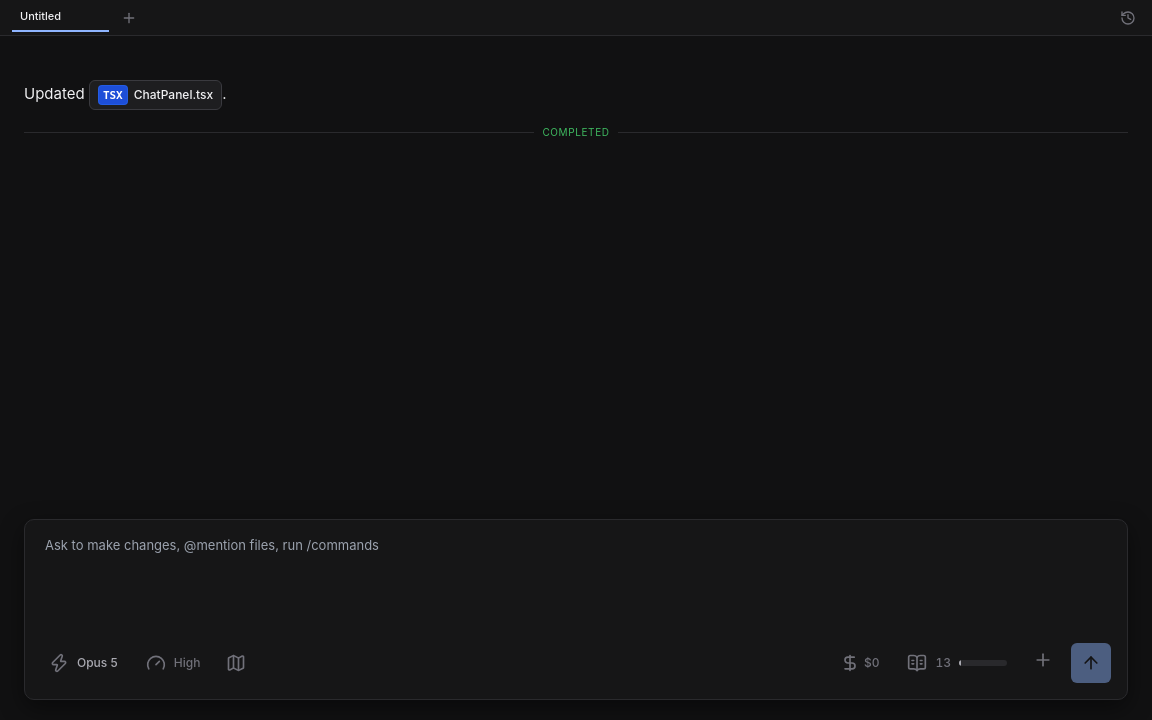
Test: ChatPanel reconstruction › opens mentioned files in a compact chat tab
This screenshot has width=1152, height=720.
Click the button with aria-label "Open src/renderer/features/chat/ChatPanel.tsx": (156, 95) top-left (89, 80), bottom-right (222, 110)
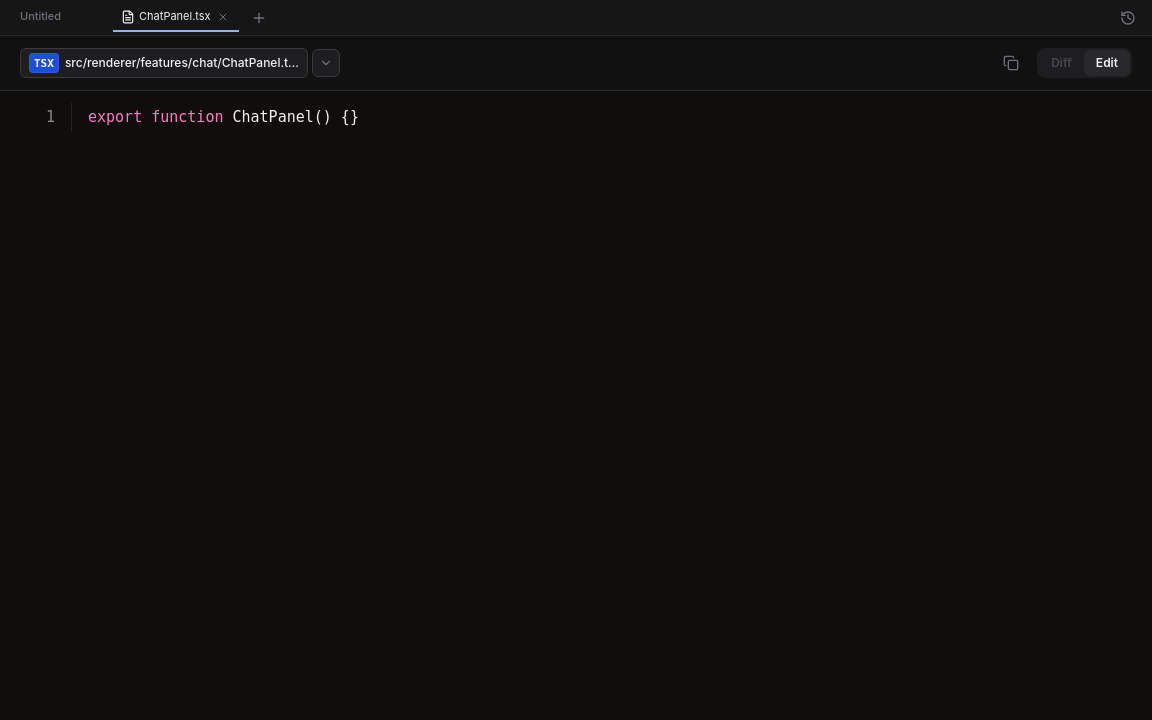
Result: the element with test id "chat-file-viewer" shows "export function ChatPanel() {}"
Result: the element with test id "chat-file-tab" reads "ChatPanel.tsx" at top-left (121, 10), bottom-right (211, 24)
